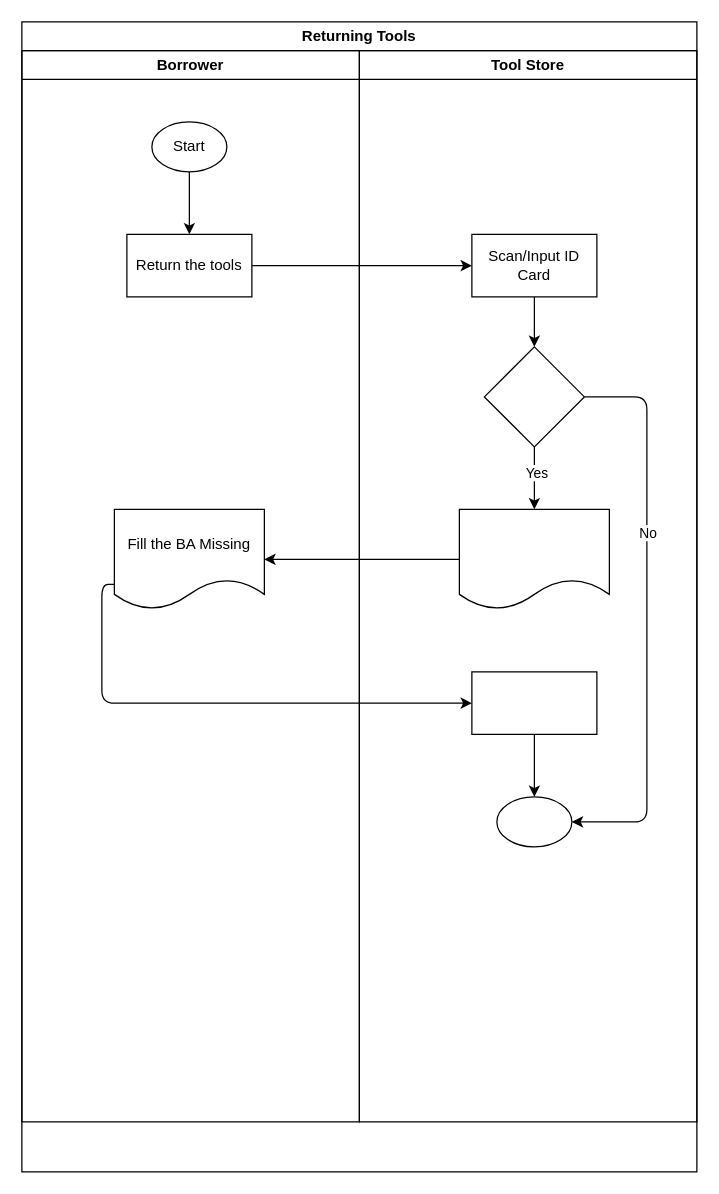
Some shapes in this 719 by 1194 pixel diagram are drawn without their labels. Here are the shapes that lost their labels. From the top down, the centre of each, then its label:
At point 533,396: "Any Tools Missing?".
At point 533,558: "Daily email reminder for missing tools to borrower".
At point 534,702: "Upload Evidence BA Missing".
At point 534,821: "End".
